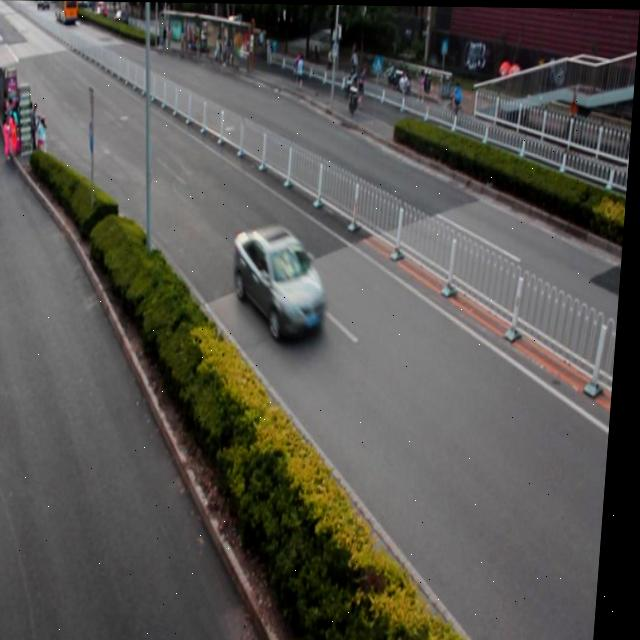car: (232, 222, 333, 341)
